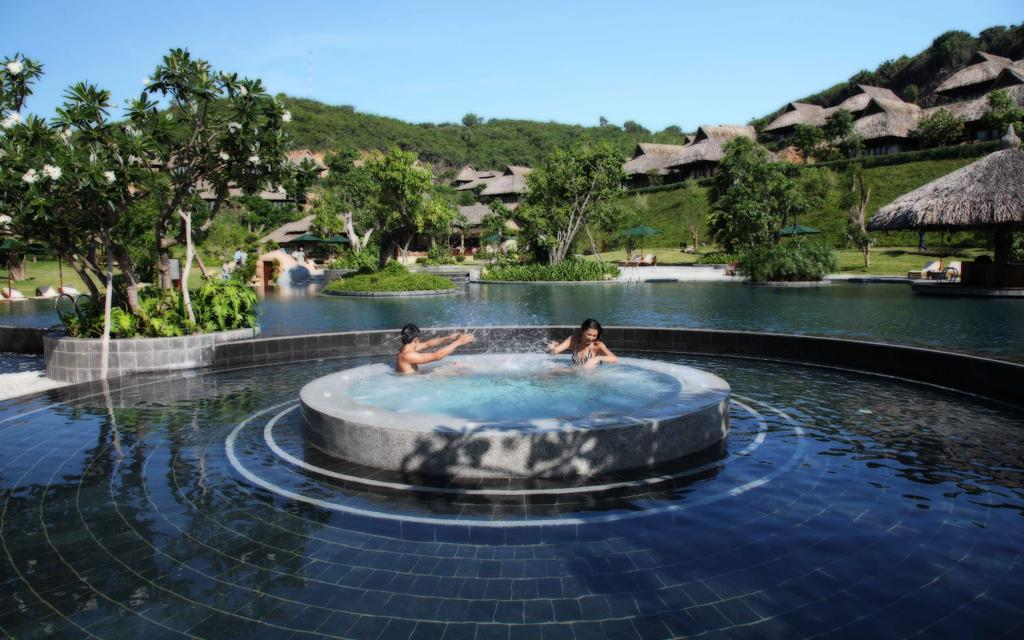face: (583, 327, 597, 344)
